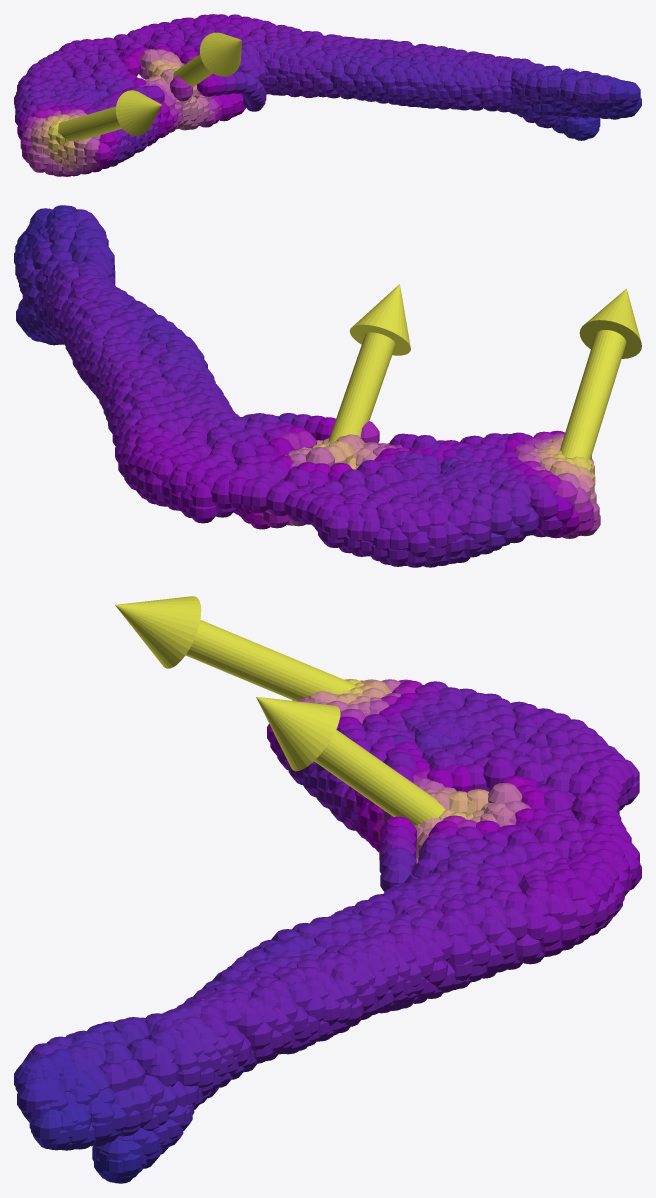
Rendered from pred_heatmap_0.glb.
3 renders of one model, top to bottom at view 1: azimuth 30°, elevation 25°; view 2: azimuth 150°, elevation 25°; view 3: azimuth 270°, elevation 25°, orthographic. The views are drawn at different scales.
Visible parts, largest first — view 1: world; view 2: world; view 3: world.
Part boxes in pixels (x1,y1,x2,y2): world: (14, 14, 641, 176); world: (14, 205, 641, 567); world: (14, 596, 641, 1183).
Size of the model in its own units: 1.54 by 0.4054 by 0.9691.
